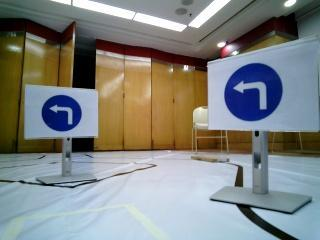left: (213, 61, 313, 119), (28, 89, 93, 138)
